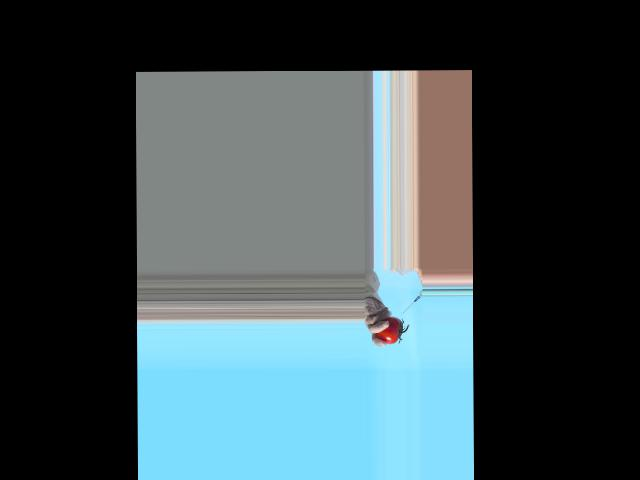tomato: (375, 317, 402, 344)
